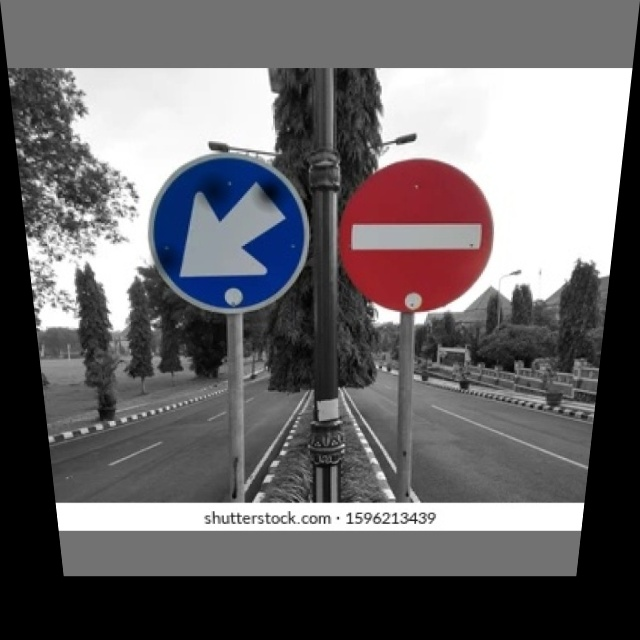Compulsory_Keep_Left: (146, 157, 304, 306)
